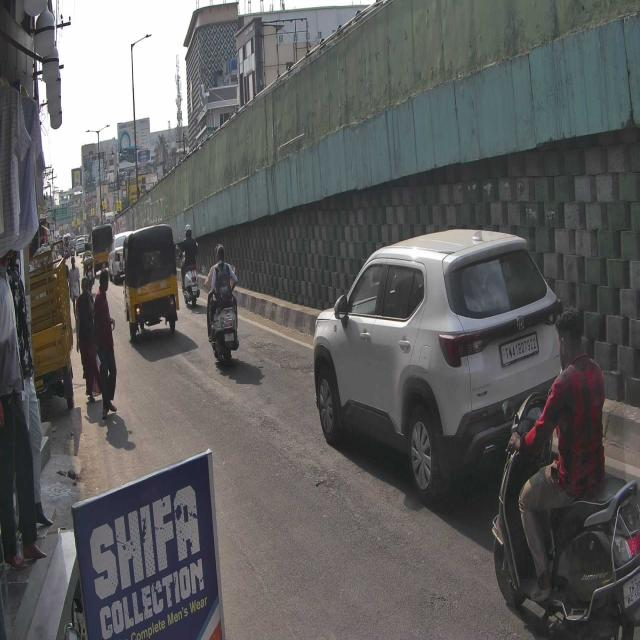single_rider: (493, 305, 640, 640)
